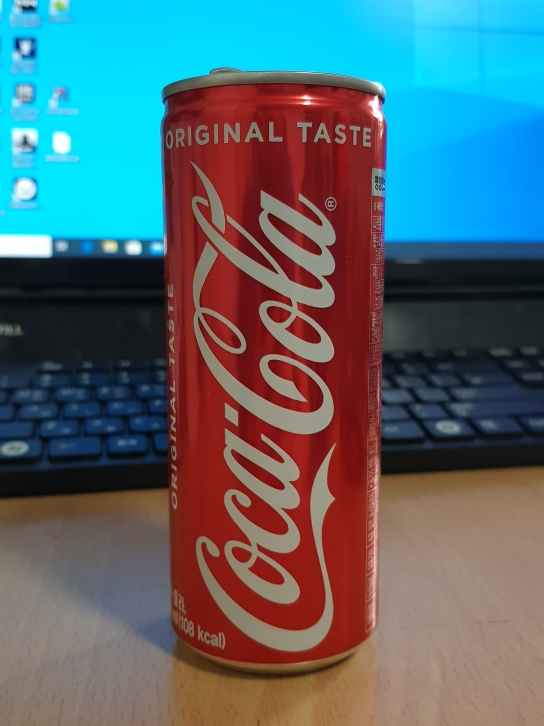Can: (154, 68, 393, 680)
